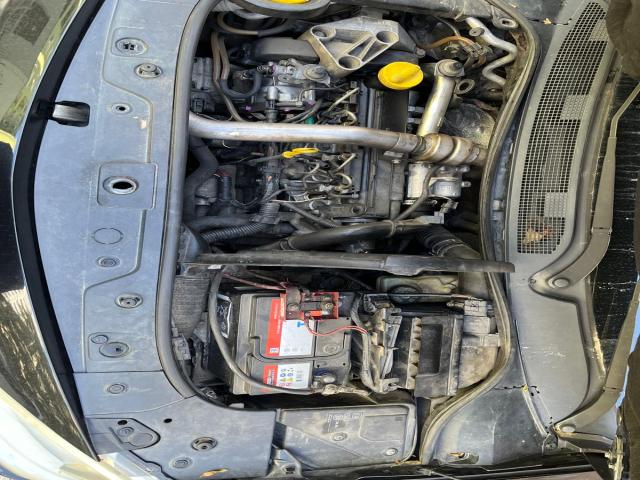accumulator: (208, 282, 367, 395)
alternator: (192, 57, 215, 93)
fuse_box: (277, 403, 417, 470)
high_pressure_pump: (247, 59, 315, 122)
